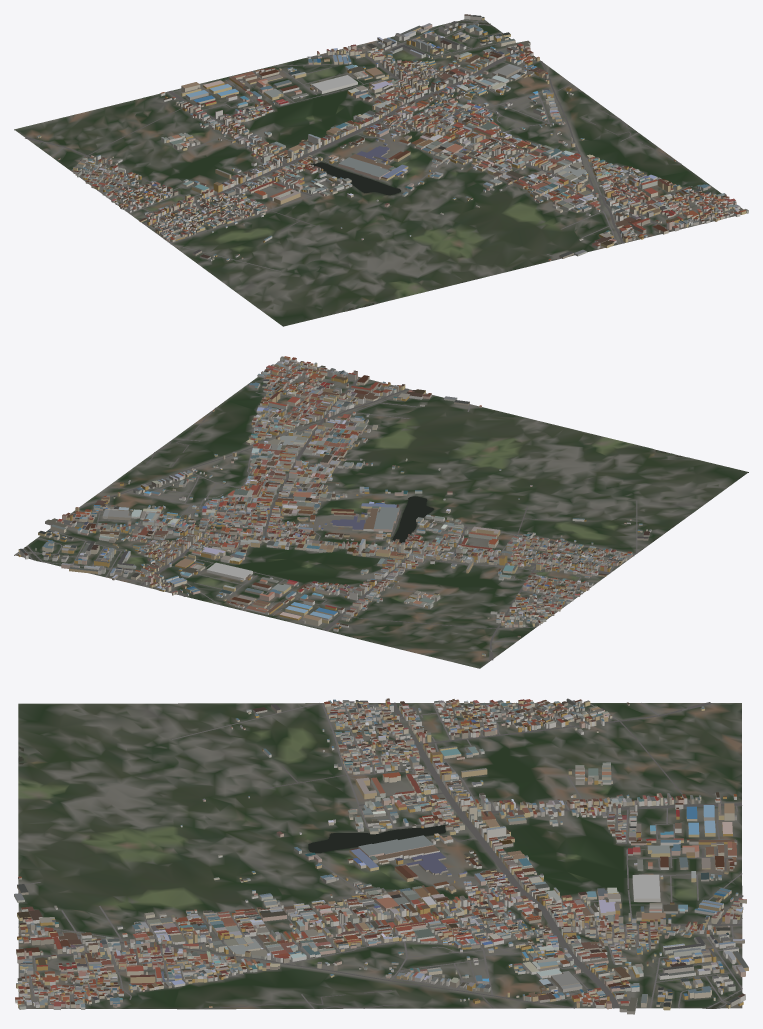
3 views of the same model, one above another, from view 1: azimuth 30°, elevation 25°; view 2: azimuth 150°, elevation 25°; view 3: azimuth 270°, elevation 25° (orthographic). The views are drawn at different scales.
Visible parts, largest first — view 1: ground, buildings, roads, water; view 2: ground, buildings, roads, water; view 3: ground, buildings, roads, water.
Boxes of the visible parts, x1=… form: ground: x1=14, y1=18, x2=748, y2=326; buildings: x1=36, y1=14, x2=748, y2=261; roads: x1=25, y1=20, x2=734, y2=271; water: x1=311, y1=21, x2=490, y2=310; ground: x1=14, y1=360, x2=748, y2=668; buildings: x1=18, y1=356, x2=651, y2=656; roads: x1=22, y1=360, x2=637, y2=660; water: x1=24, y1=450, x2=682, y2=561; ground: x1=18, y1=703, x2=742, y2=1009; buildings: x1=14, y1=698, x2=748, y2=1014; roads: x1=18, y1=702, x2=743, y2=1009; water: x1=19, y1=746, x2=743, y2=1008.
Size of the model in its own units: 1432 by 30.73 by 1424.
